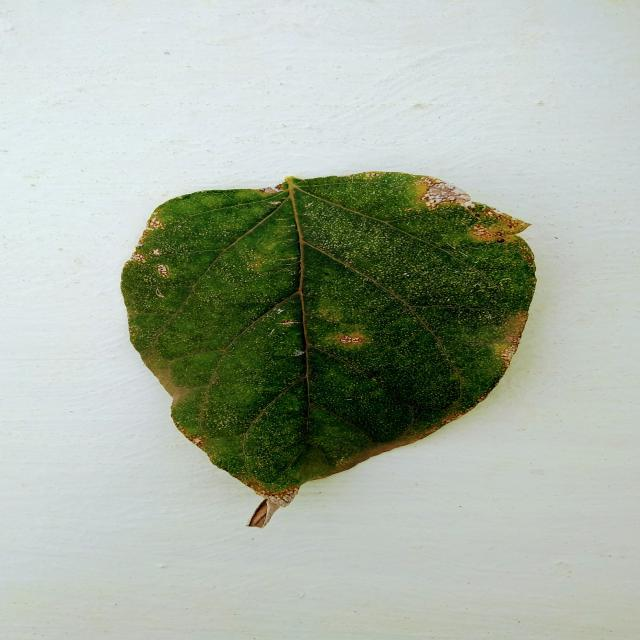leaf: (119, 169, 537, 528)
